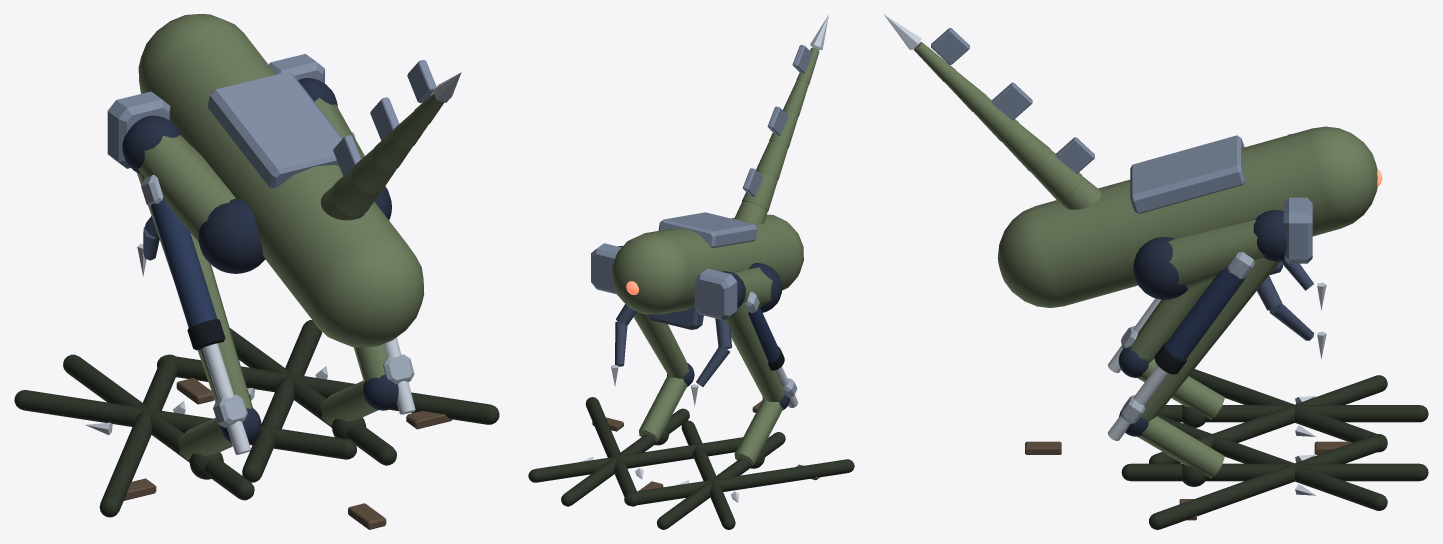
The model's file is enemy_leaper_windup.glb.
The picture shows the model from 3 angles, left to right: view 1: azimuth 30°, elevation 25°; view 2: azimuth 150°, elevation 25°; view 3: azimuth 270°, elevation 25°; orthographic projection. The views are drawn at different scales.
Parts seen in each view (by area): view 1: leaper_torso, leaper_back_plate, leaper_toe_l2, leaper_thigh_l, leaper_toe_r2, leaper_hip_l, leaper_calf_ram_l_body, leaper_toe_l1, leaper_toe_l0, leaper_toe_r0, leaper_toe_r1, leaper_shin_l (+26 smaller); view 2: leaper_torso, leaper_toe_l0, leaper_toe_r0, leaper_shin_l, leaper_back_plate, leaper_knee_cap_l, leaper_toe_l1, leaper_toe_r1, leaper_shin_r, leaper_toe_l2, leaper_toe_r2, leaper_meta_r (+15 smaller); view 3: leaper_torso, leaper_back_plate, leaper_toe_r1, leaper_toe_r2, leaper_thigh_r, leaper_toe_l1, leaper_toe_r0, leaper_shin_r, leaper_toe_l2, leaper_toe_l0, leaper_calf_ram_r_body, leaper_hip_r (+17 smaller).
Boxes of the visible parts, box(x1,y1,x2,y2) form: leaper_torso: box(138, 14, 424, 347); leaper_back_plate: box(207, 71, 342, 188); leaper_toe_l2: box(14, 390, 356, 459); leaper_thigh_l: box(138, 134, 235, 242); leaper_toe_r2: box(157, 355, 499, 424); leaper_hip_l: box(198, 198, 265, 273); leaper_calf_ram_l_body: box(150, 197, 217, 327); leaper_toe_l1: box(63, 354, 254, 500); leaper_toe_l0: box(99, 354, 177, 517); leaper_toe_r0: box(242, 320, 321, 482); leaper_toe_r1: box(229, 328, 396, 465); leaper_shin_l: box(136, 172, 252, 409); leaper_torso: box(612, 214, 803, 314); leaper_toe_l0: box(624, 459, 854, 505); leaper_toe_r0: box(528, 437, 742, 482); leaper_shin_l: box(725, 302, 784, 401); leaper_back_plate: box(658, 212, 757, 248); leaper_knee_cap_l: box(694, 268, 737, 320); leaper_toe_l1: box(657, 432, 785, 529); leaper_toe_r1: box(561, 408, 689, 506); leaper_shin_r: box(633, 311, 688, 378); leaper_toe_l2: box(681, 420, 735, 529); leaper_toe_r2: box(585, 397, 638, 506); leaper_meta_r: box(639, 375, 687, 442); leaper_torso: box(997, 126, 1377, 307); leaper_back_plate: box(1130, 135, 1245, 214); leaper_toe_r1: box(1121, 463, 1428, 481); leaper_toe_r2: box(1149, 434, 1387, 529); leaper_thigh_r: box(1168, 218, 1264, 290); leaper_toe_l1: box(1158, 405, 1428, 422); leaper_toe_r0: box(1157, 415, 1387, 510); leaper_shin_r: box(1140, 257, 1279, 421); leaper_toe_l2: box(1149, 375, 1387, 463); leaper_toe_l0: box(1189, 369, 1387, 452); leaper_calf_ram_r_body: box(1165, 265, 1246, 359); leaper_hip_r: box(1133, 237, 1187, 299).
Size of the model in its own units: 1.34 by 1.68 by 1.88.
